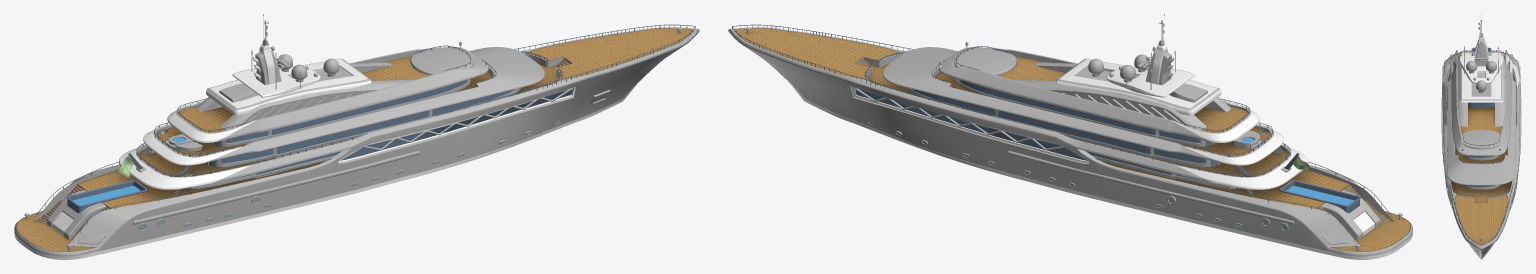
The model's file is Yacht1.glb.
3 renders of one model, left to right at view 1: azimuth 30°, elevation 25°; view 2: azimuth 150°, elevation 25°; view 3: azimuth 270°, elevation 25°, orthographic. The views are drawn at different scales.
Visible parts, largest first — view 1: object; view 2: object; view 3: object.
Boxes of the visible parts, x1,y1,x2,y2 form: object: [14, 14, 699, 259]; object: [728, 14, 1412, 259]; object: [1441, 14, 1521, 259].
Bounding box in the file's own units: 1362 × 338 × 200.
10 materials, 1 textured.
